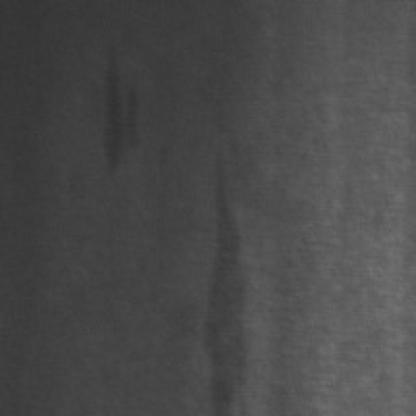inclusion: (193, 149, 262, 416), (92, 44, 154, 191)
